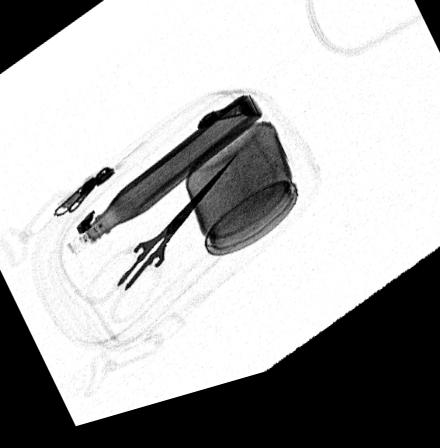Scissors: (87, 162, 240, 330)
